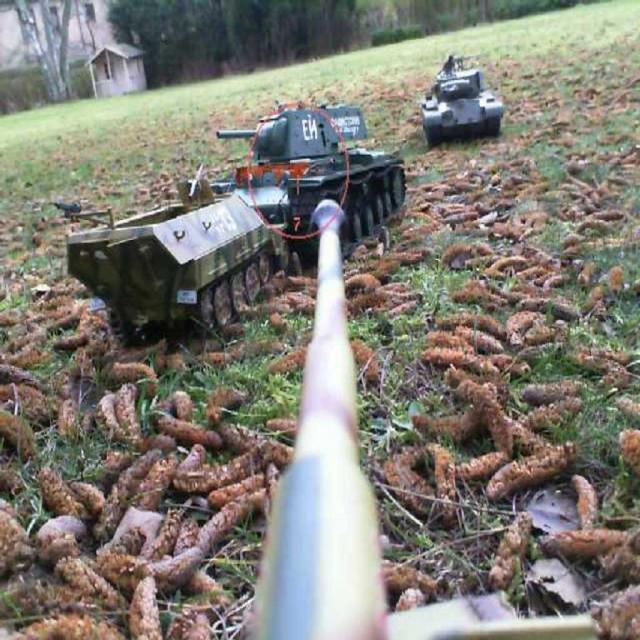tank: (236, 200, 606, 638), (50, 160, 290, 342), (210, 100, 409, 252), (420, 53, 504, 147)
